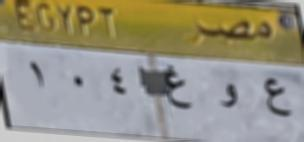0: (68, 70, 87, 94)
1: (24, 58, 46, 95)
4: (107, 65, 128, 98)
ain: (259, 74, 296, 122)
ghayn: (160, 62, 193, 114)
waw: (215, 81, 243, 116)
